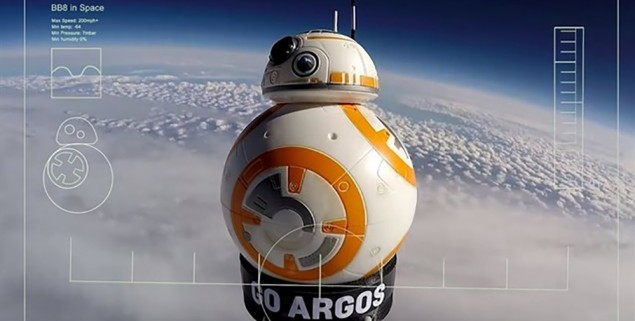bb8: (220, 29, 418, 283)
